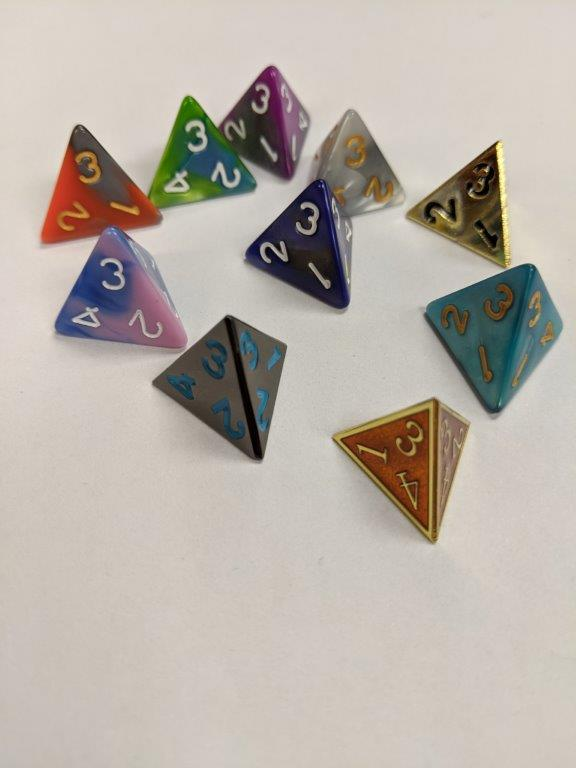d4-3: (330, 398, 477, 549), (146, 314, 290, 467), (421, 260, 561, 416), (48, 221, 192, 349), (38, 122, 166, 249), (243, 181, 358, 311), (401, 140, 511, 267), (138, 92, 255, 210), (217, 60, 310, 181), (311, 106, 405, 220)
